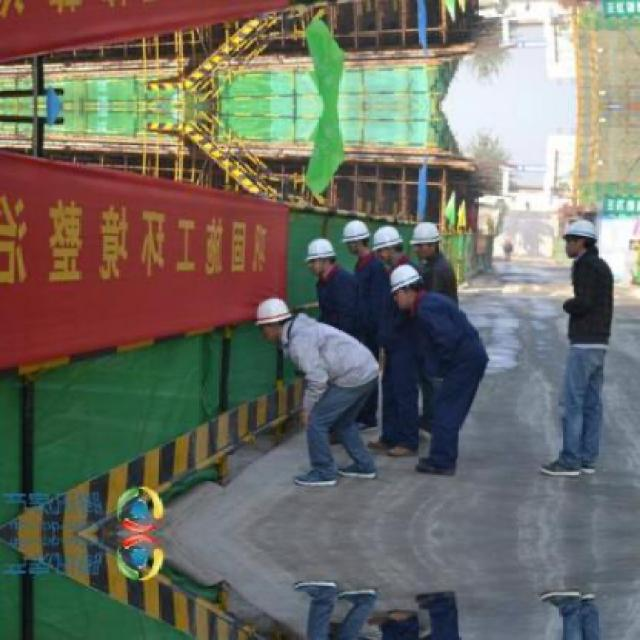helmet: (251, 296, 289, 341), (562, 215, 598, 258), (301, 239, 337, 279), (389, 266, 423, 308), (409, 220, 446, 258), (371, 226, 402, 264), (342, 218, 372, 255)
